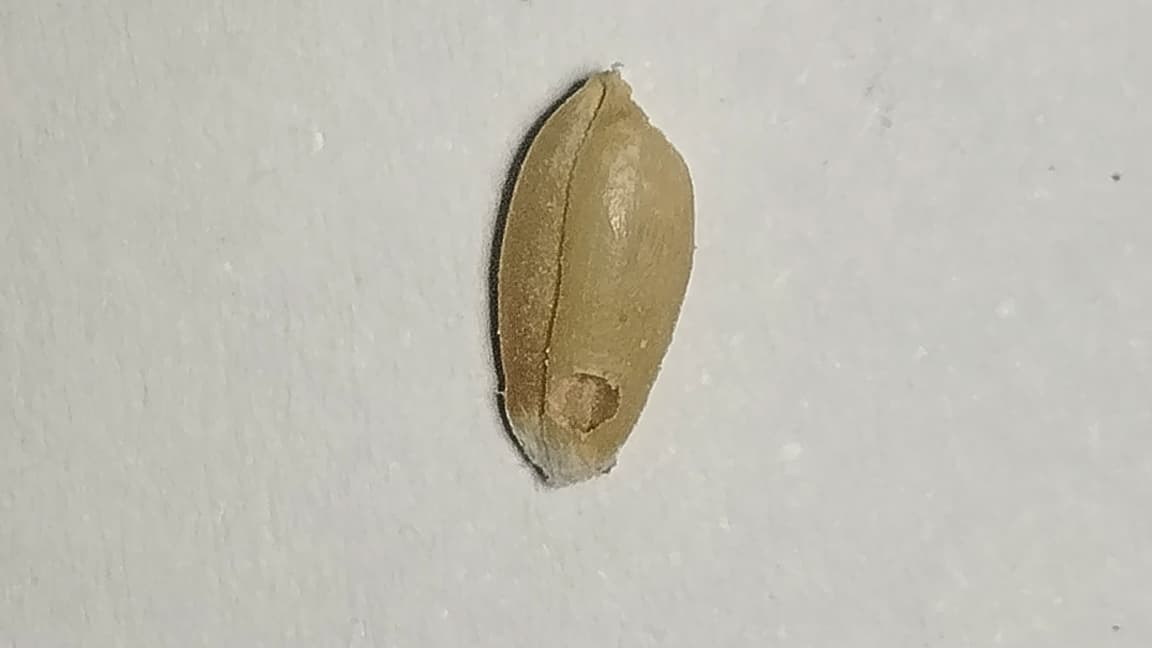damage: (499, 71, 693, 477)
insectdamage: (548, 328, 633, 444)
